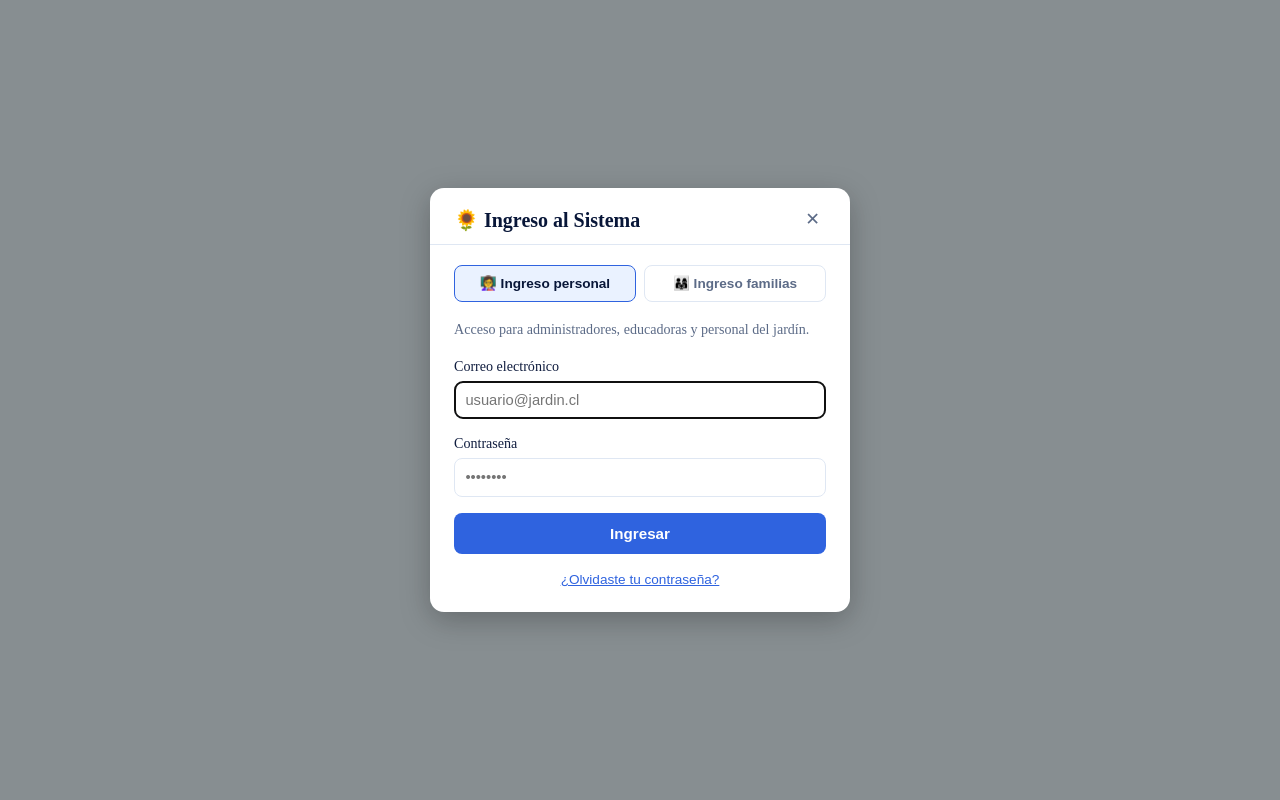
Test case: LoginModal › cambia a la vista de recuperar contraseña
Step 1. Click the button "¿Olvidaste tu contraseña?" → (640, 580), box [555,571,725,588]
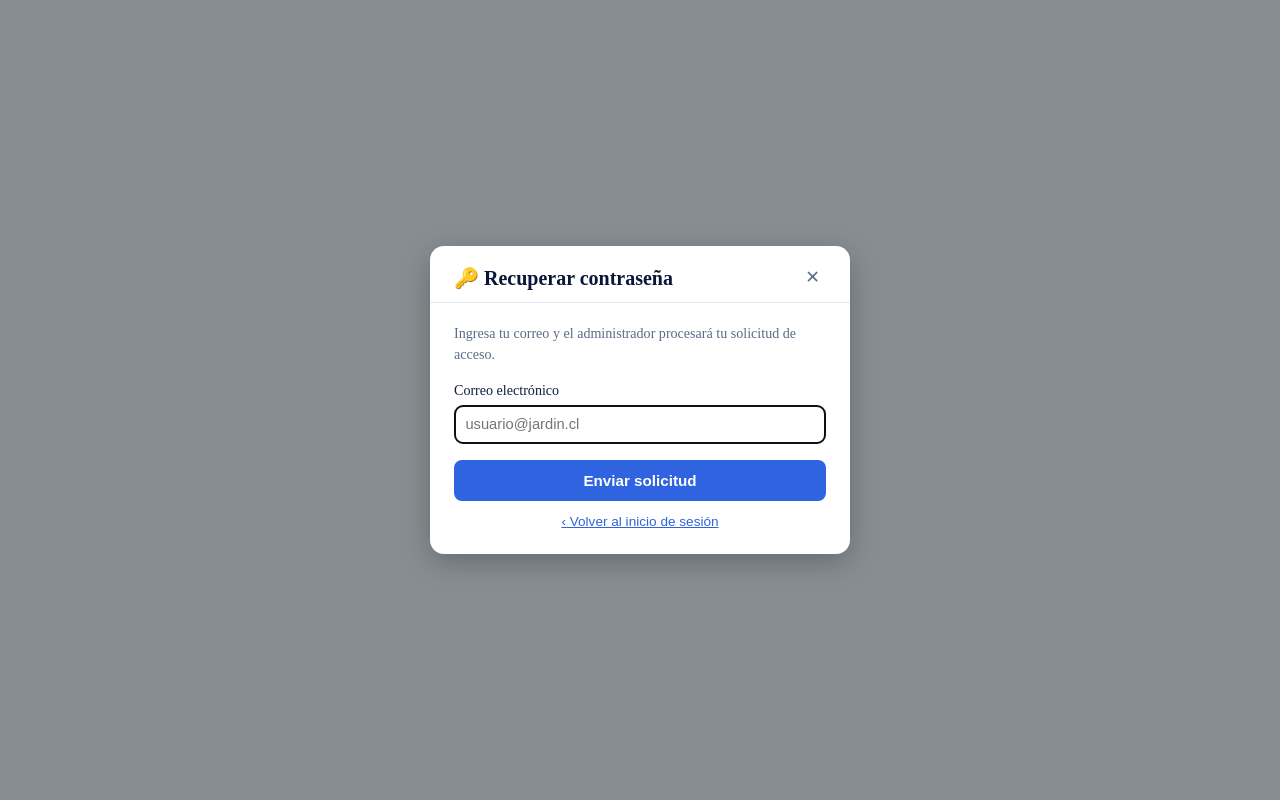
Result: the button "Enviar solicitud" is shown at [454,460,826,501]
